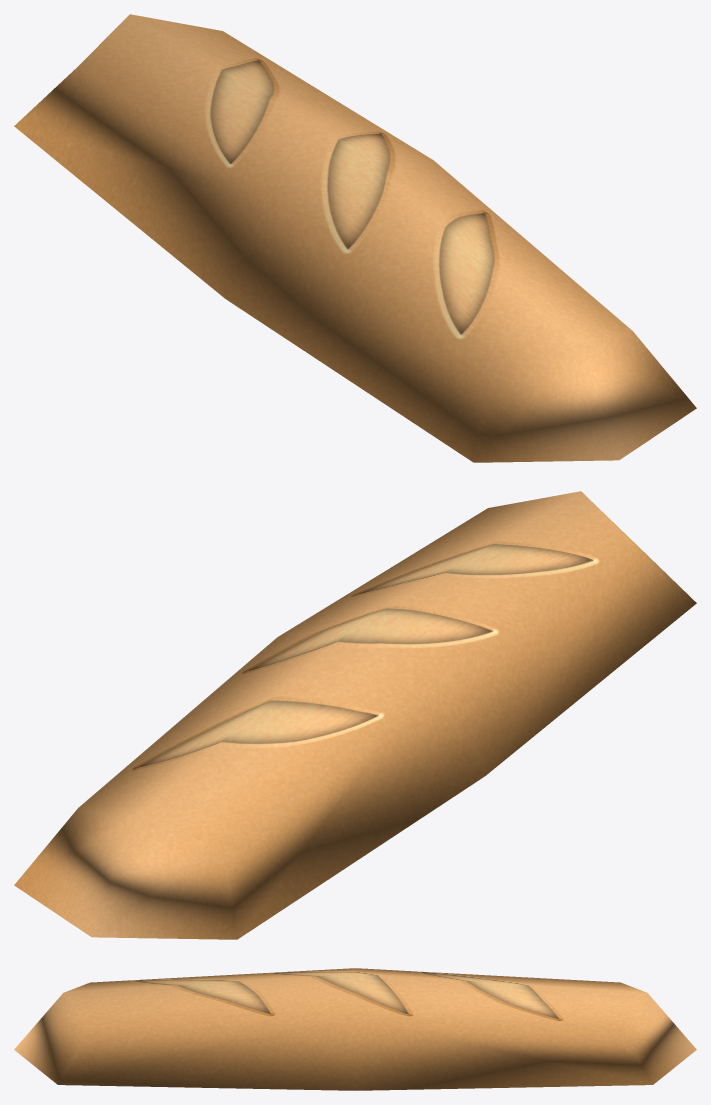
File: bread.fbx
The picture shows the model from 3 angles, top to bottom: view 1: azimuth 30°, elevation 25°; view 2: azimuth 150°, elevation 25°; view 3: azimuth 270°, elevation 25°; orthographic projection. The views are drawn at different scales.
Visible parts, largest first — view 1: bread; view 2: bread; view 3: bread.
Boxes of the visible parts, <box> form: bread: <box>14,14,696,462</box>; bread: <box>14,491,696,939</box>; bread: <box>14,968,696,1090</box>.
Size of the model in its own units: 0.8693 by 0.3747 by 3.05.
1 material, 1 textured.
